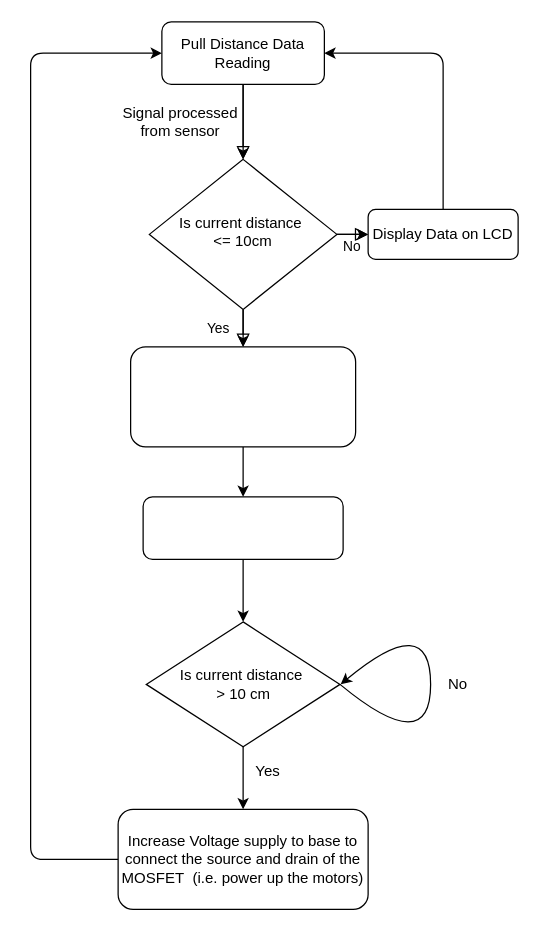
This 540x931 diagram has some shape labels left out. The centre of each missing label's shape, as x and y in pixels:
"Display Brake Message on LCD" belongs at (x=242, y=527).
"Drop voltage supply to base of MOSFET below 1V to cut the power to the motors" belongs at (x=242, y=396).
